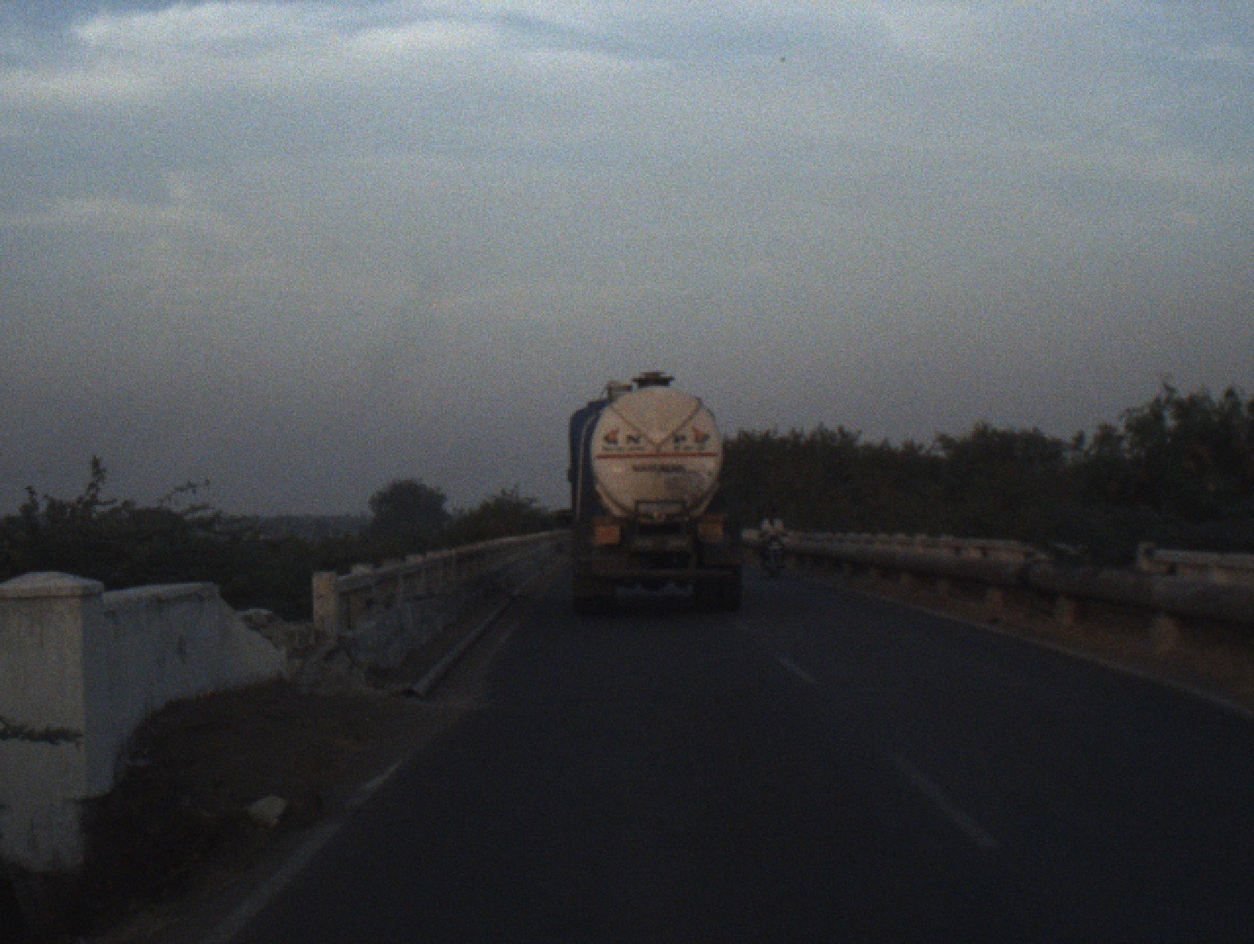motorcycle: (754, 526, 793, 583)
rider: (758, 508, 789, 567)
truck: (563, 366, 751, 621)
